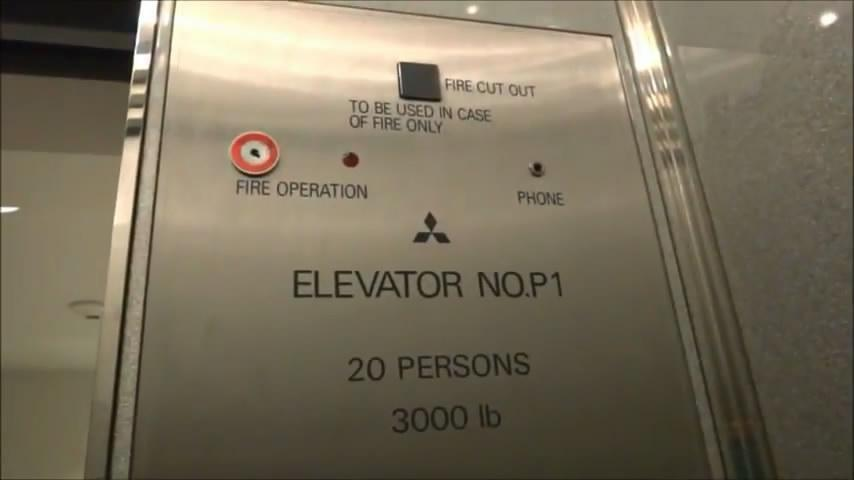keyhole: (225, 126, 281, 177)
unknown: (392, 53, 448, 104)
